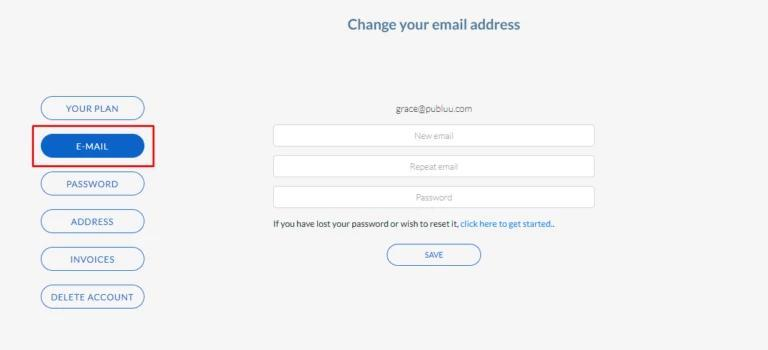button: (41, 284, 147, 312), (42, 96, 146, 123), (41, 171, 147, 197), (41, 134, 145, 159), (42, 210, 146, 235), (42, 248, 146, 273), (387, 245, 482, 268)
input: (274, 124, 596, 149), (275, 157, 596, 179), (274, 187, 595, 209)
